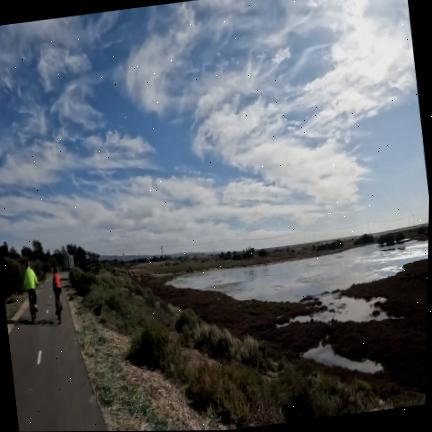Bike_Lane: (8, 277, 107, 432)
